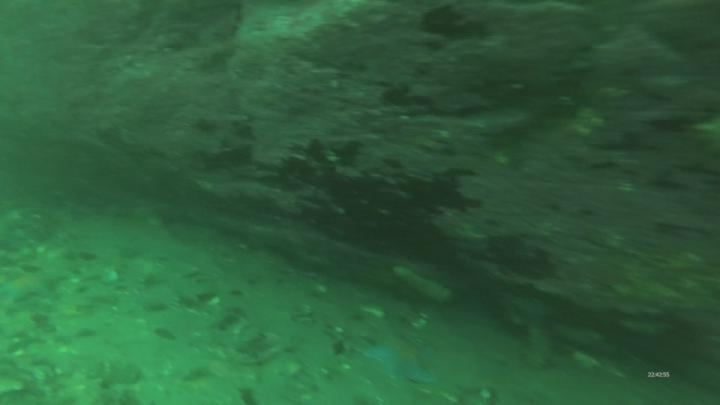holothurian: (387, 261, 461, 311), (521, 319, 555, 374)
starfish: (353, 320, 443, 391), (1, 266, 69, 307)
